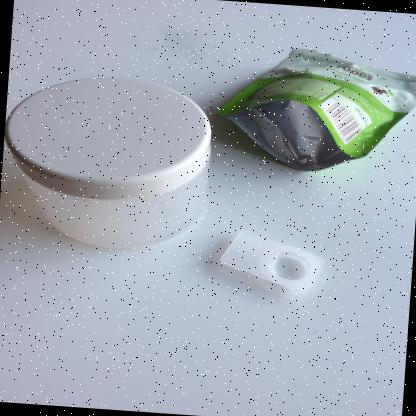Other plastic: (218, 49, 416, 172)
Other plastic cup: (221, 231, 326, 293)
Tupperware: (5, 78, 211, 249)
